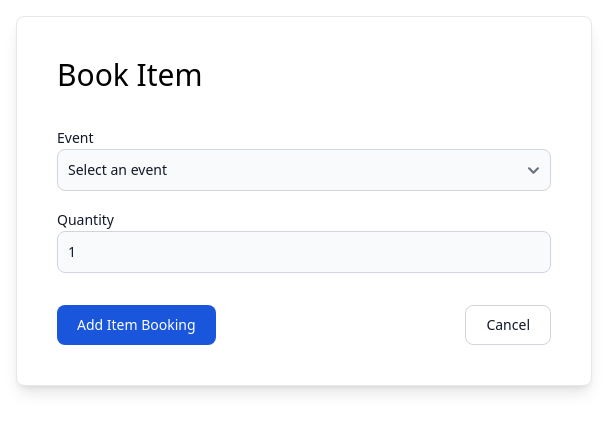
Test case: NewItemBooking Page › handles backend validation error for quantity and displays error message
Select "Summer Festival (7/15/2024, 10:00 AM - 7/15/2024, 6:00 PM)" in the dropdown labelled "Event" at {"x": 304, "y": 170}, box [57,149,551,191]
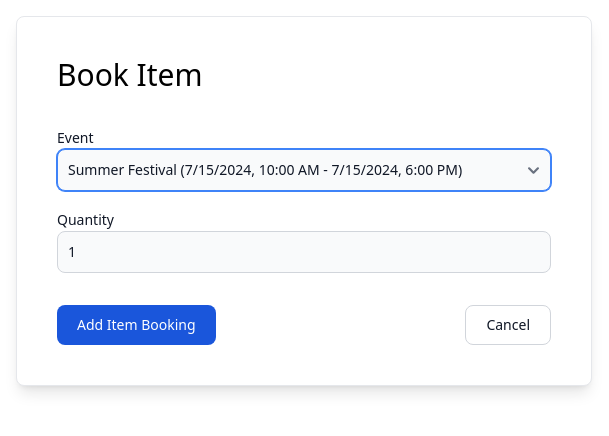
Replace the text in the number field labelled "Quantity" with "10" at {"x": 304, "y": 252}, box [57,231,551,273]
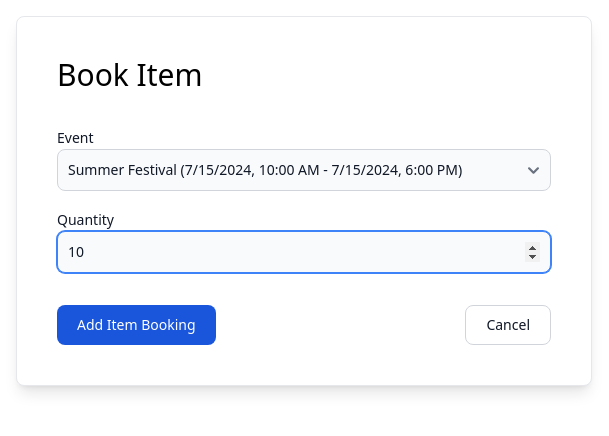
Click the button "Add Item Booking" at {"x": 136, "y": 325}, box [57,305,216,345]
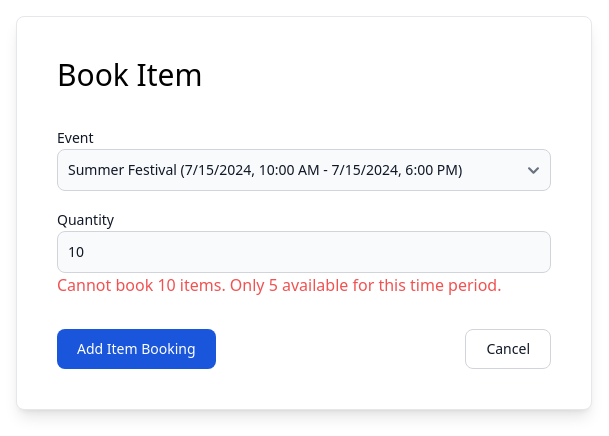
Result: the text "Cannot book 10 items. Only 5 available for this time period." is shown at [57,273,551,297]
